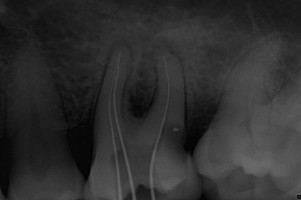Dental Caries: (103, 33, 184, 118)
